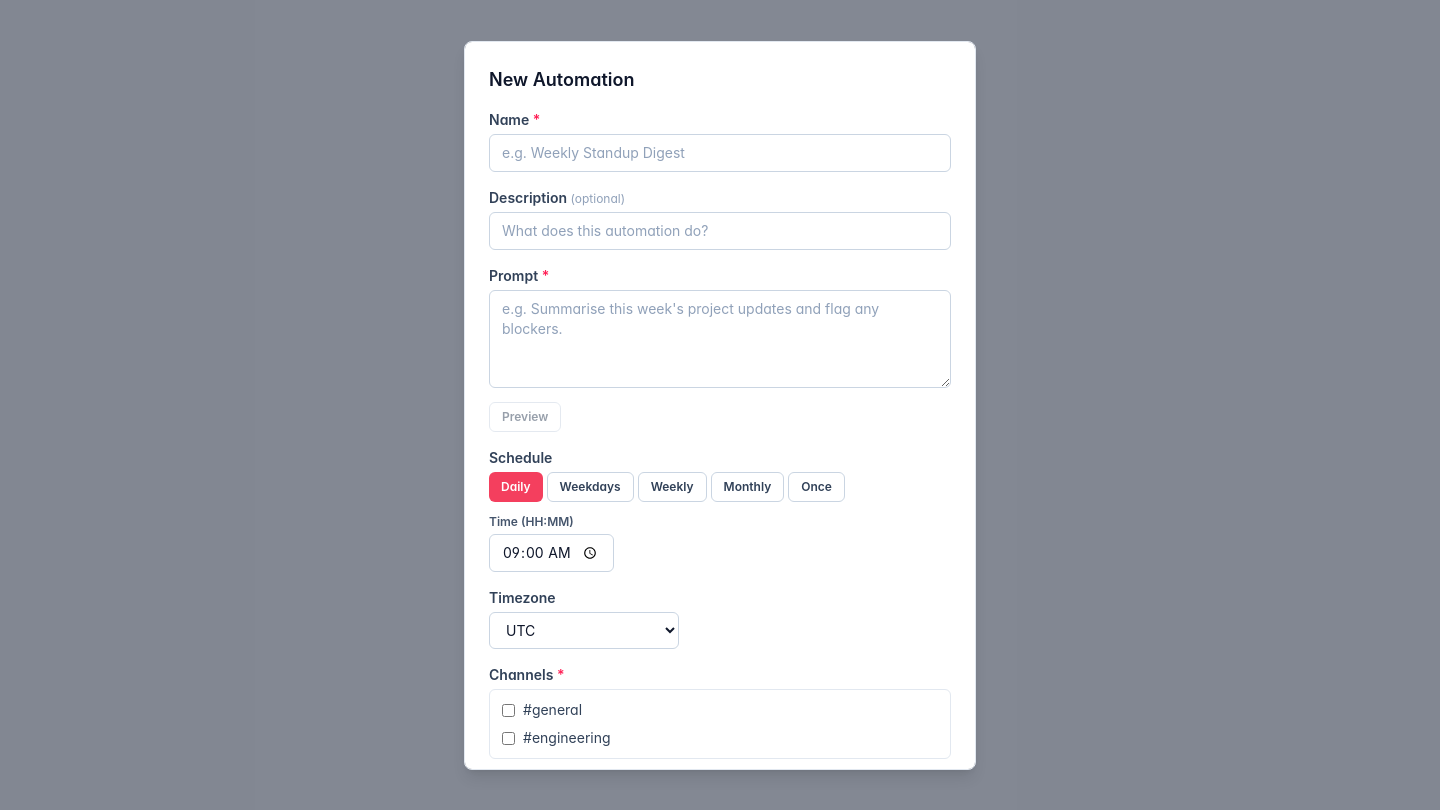
Test: AddAutomationModal › shows 'Select at least one day' when weekly schedule has no days checked
Type "Test Automation" into the field labelled "Name *" at (720, 152), box [489,134,951,172]
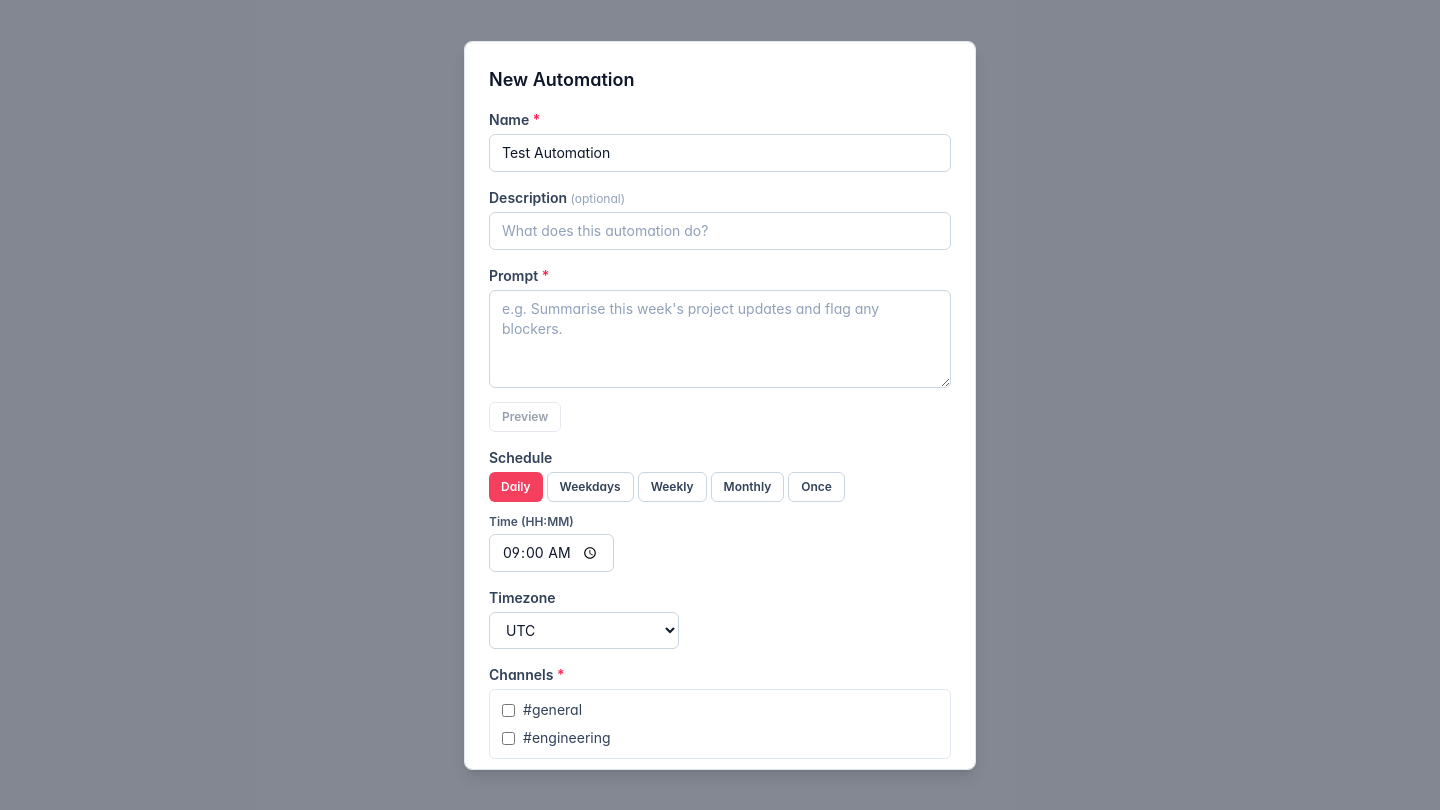
Replace the text in the text box labelled "Prompt *" with "Some prompt" at (720, 338), box [489,290,951,388]
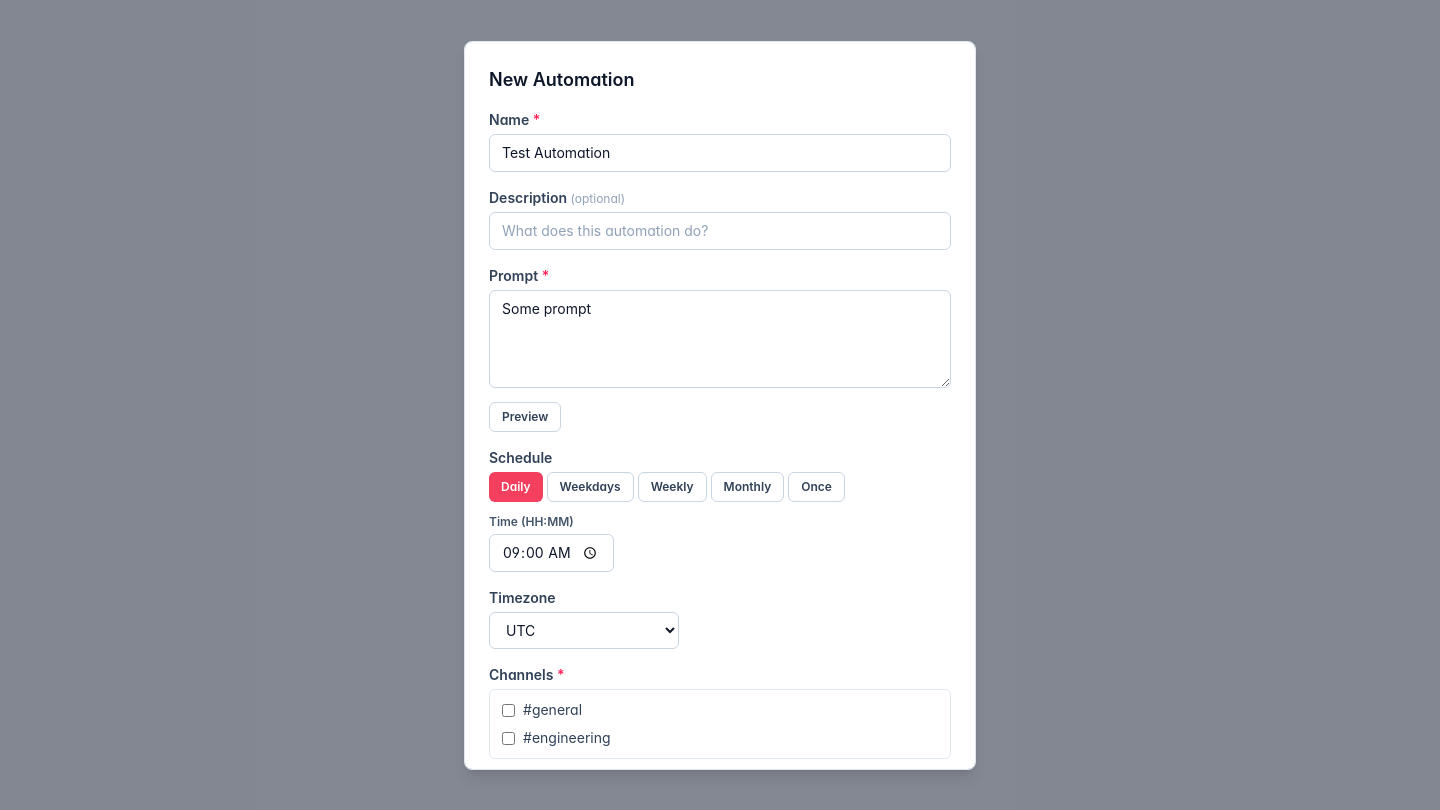
Click the checkbox labelled "#general" at (508, 710), box [502,704,515,717]
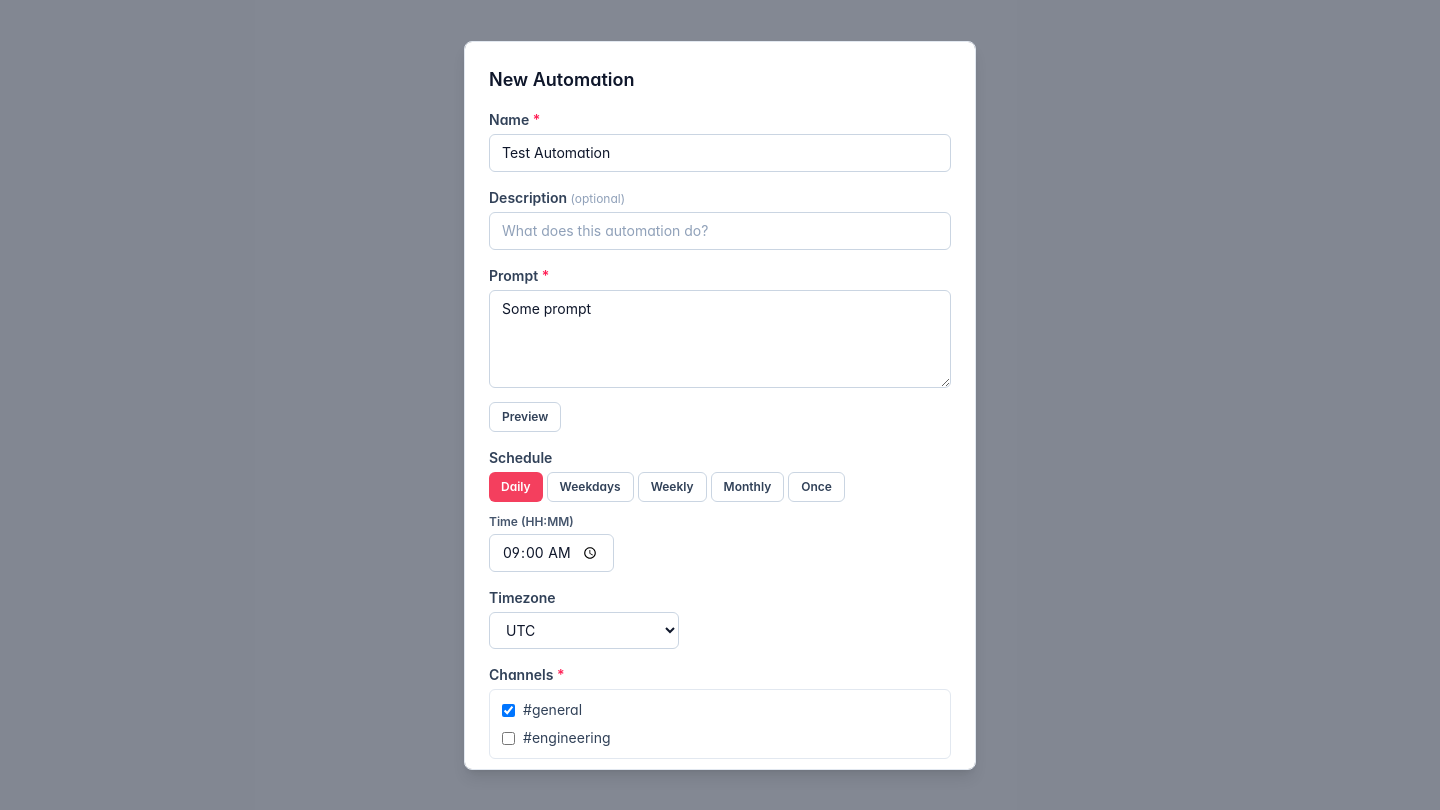
# Switch to 'Weekly' occurrence
Click the button "Weekly" at (672, 486), box [638,472,707,502]
(page scrolled)
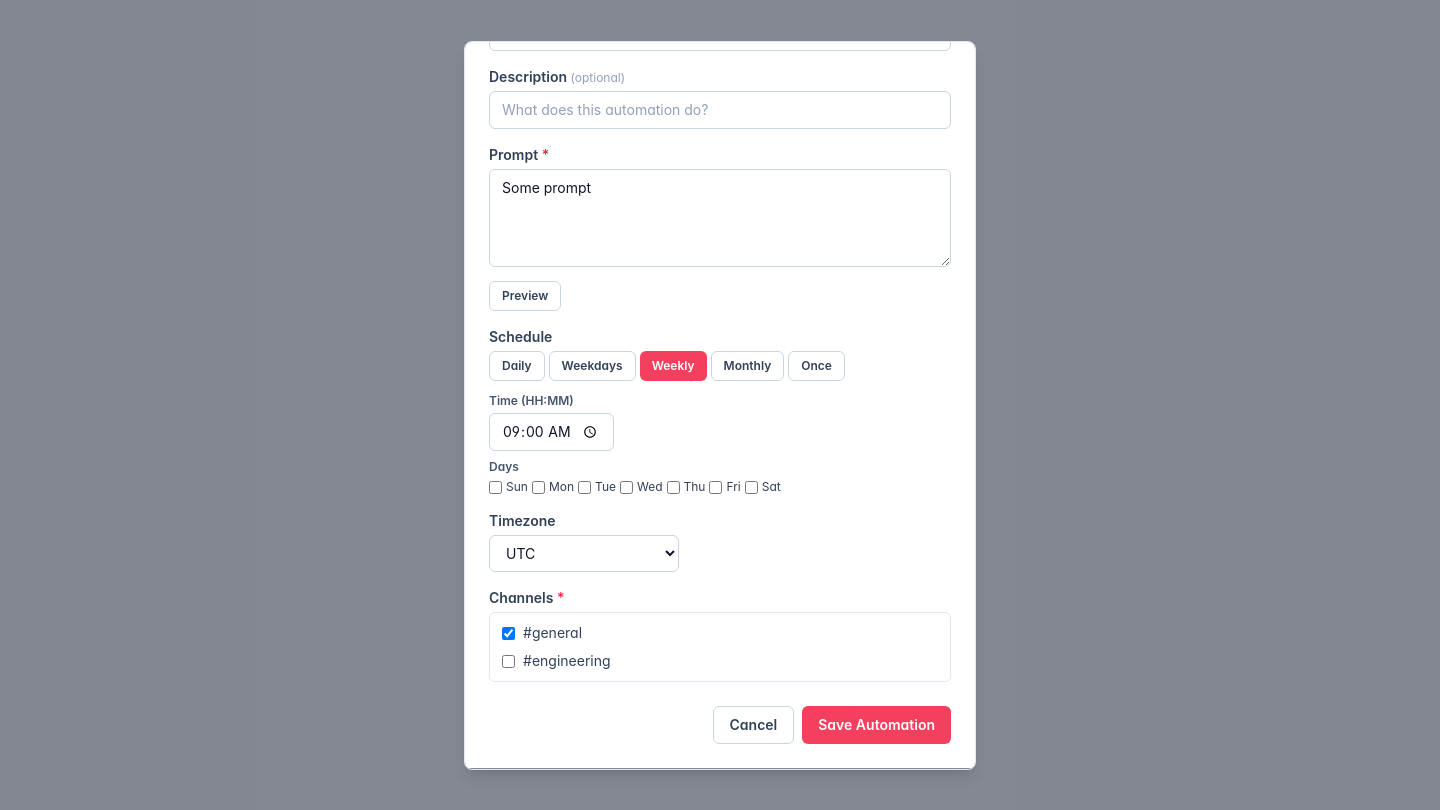
Click the button "Save Automation" at (877, 725), box [802,706,951,744]
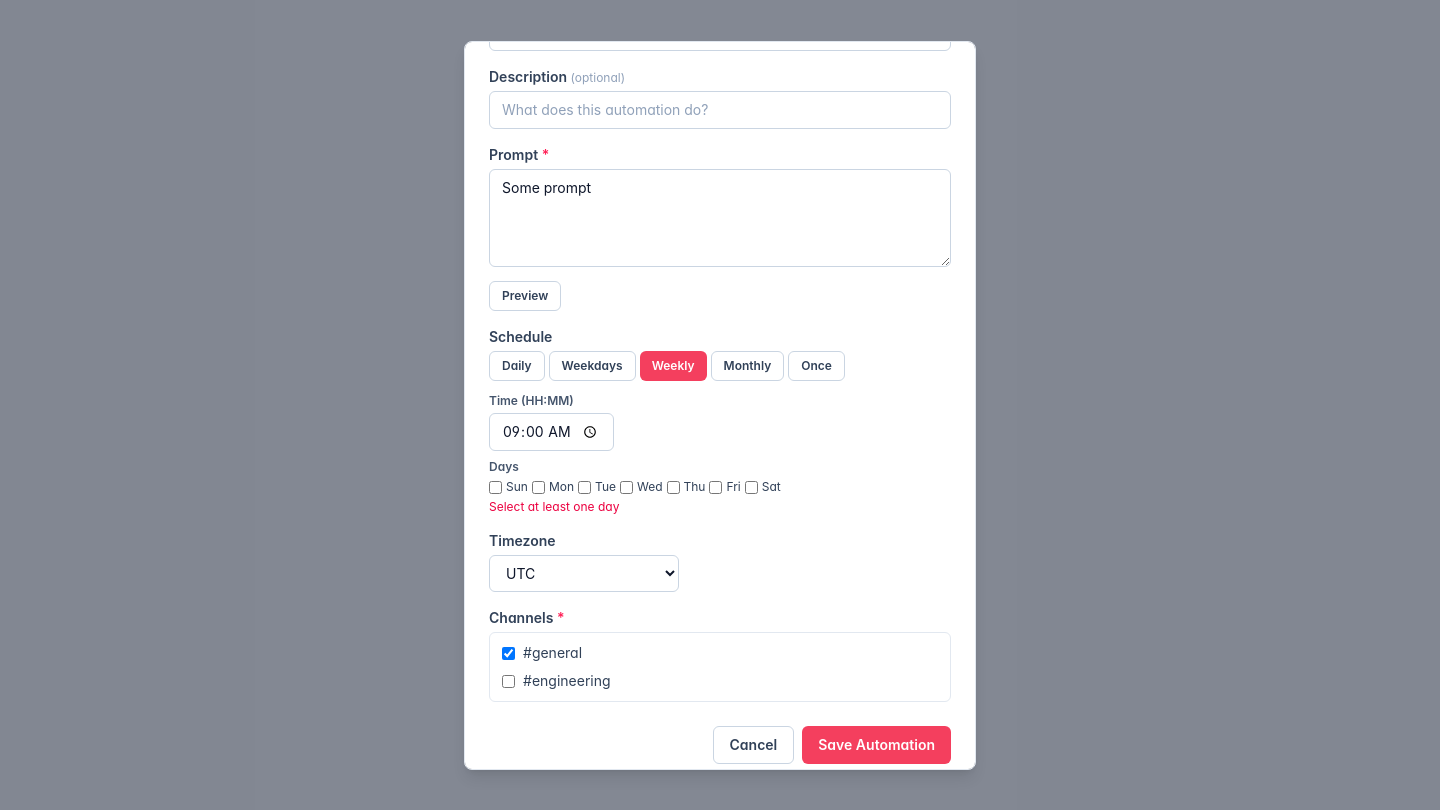
Now the text "Select at least one day" is shown, box [489,499,619,514]
